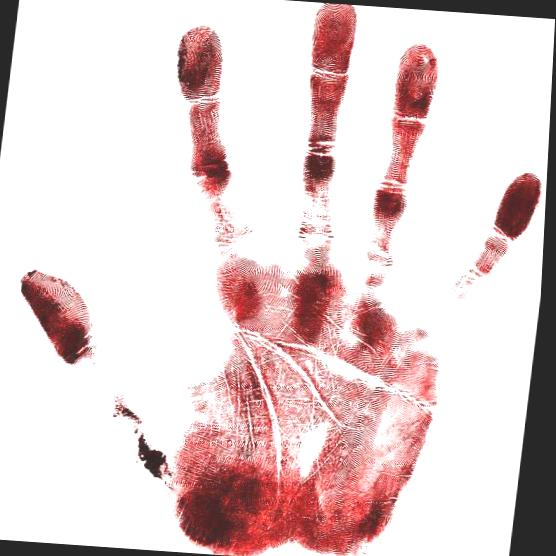Fire: (147, 3, 442, 556), (453, 174, 545, 302), (23, 270, 97, 364)
